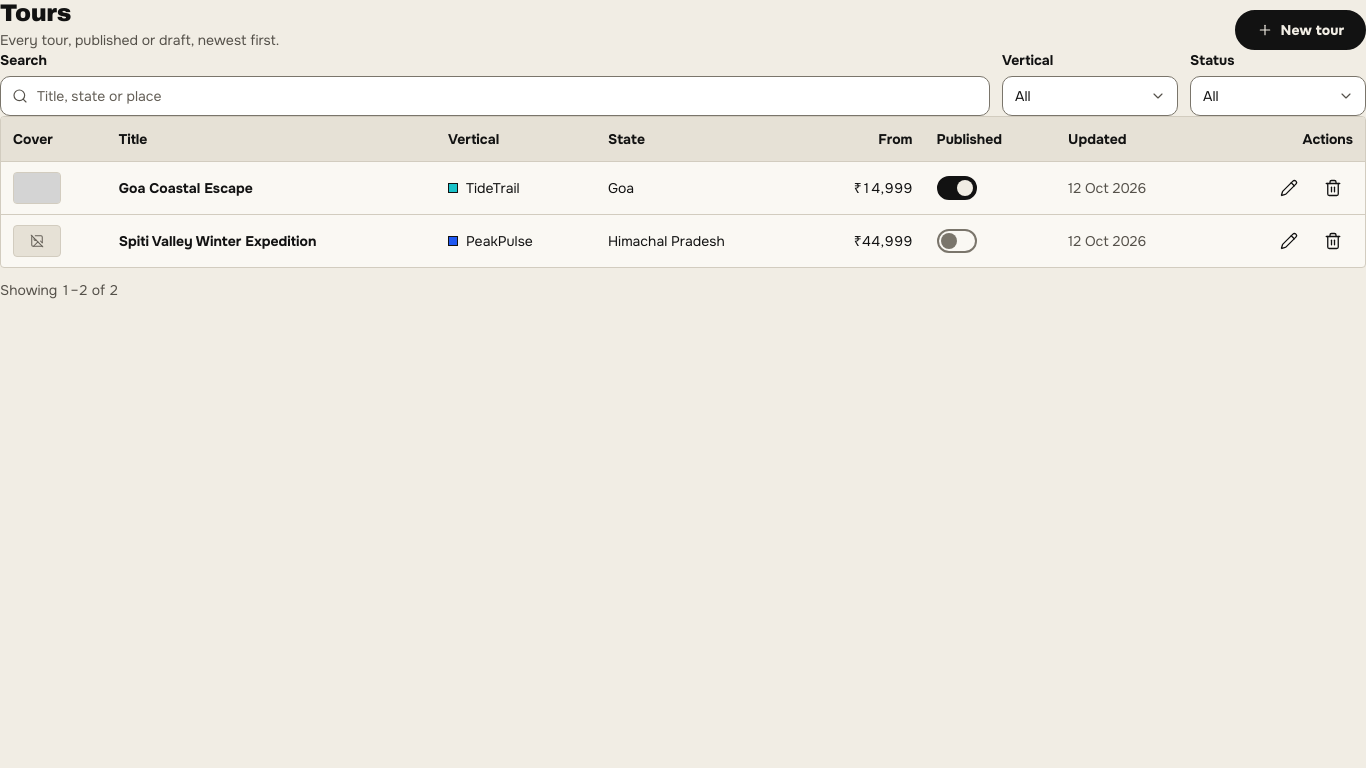
ToursPage › deletes a tour after asking, naming it
The image size is (1366, 768).
Expected: the table named "Tours" is shown, [1,117,1365,267]
Expected: the text "Goa Coastal Escape" is shown, [107,162,436,215]
Click the button named "Delete Spiti Valley Winter Expedition". click: (1333, 241)
box: [1313,221,1353,261]
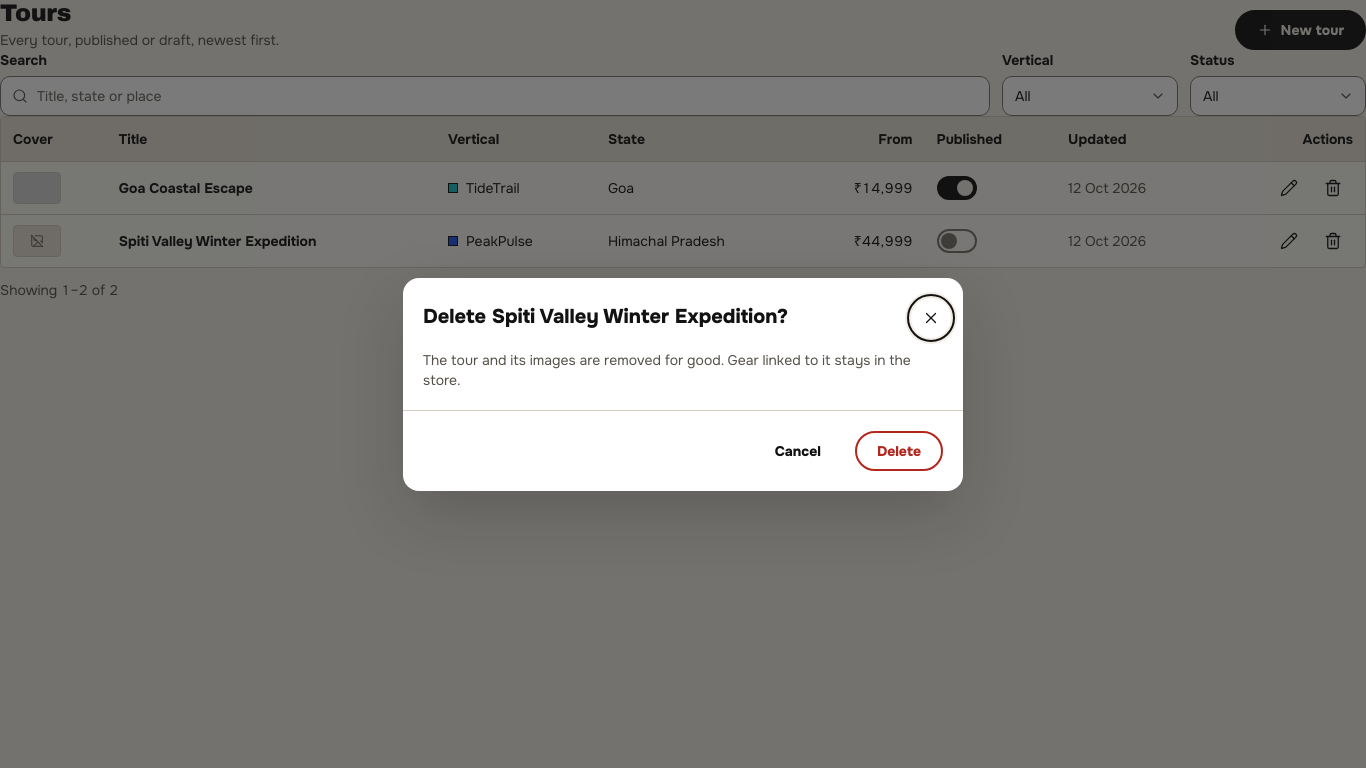
Click the button "Delete". click: (899, 450)
box: [855,430,943,470]
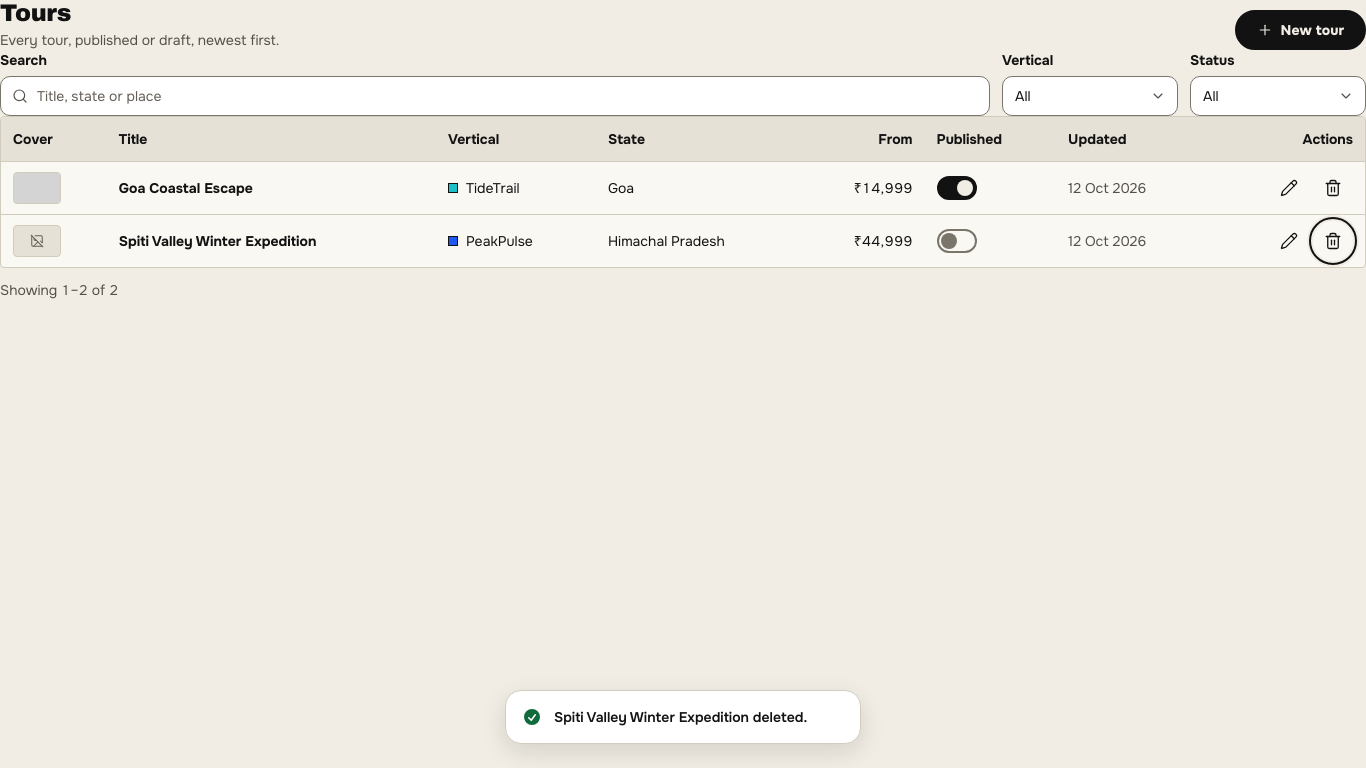
Now the dialog is gone
